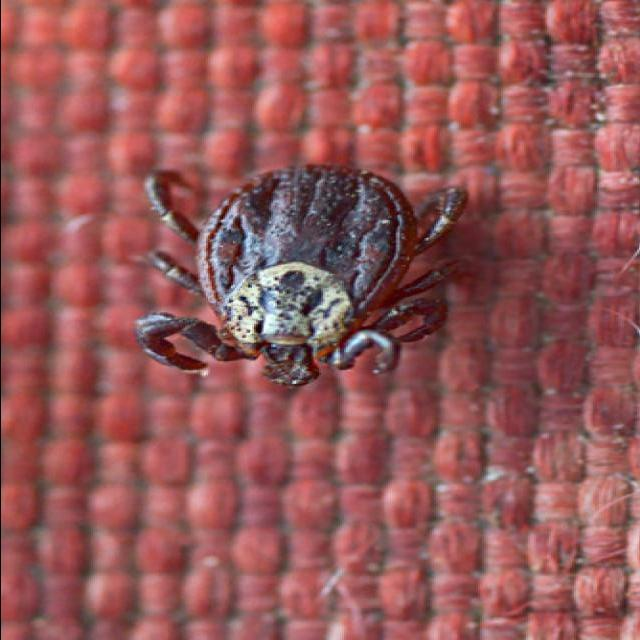Dermacentor Reticulatus-F: (134, 165, 466, 387)
